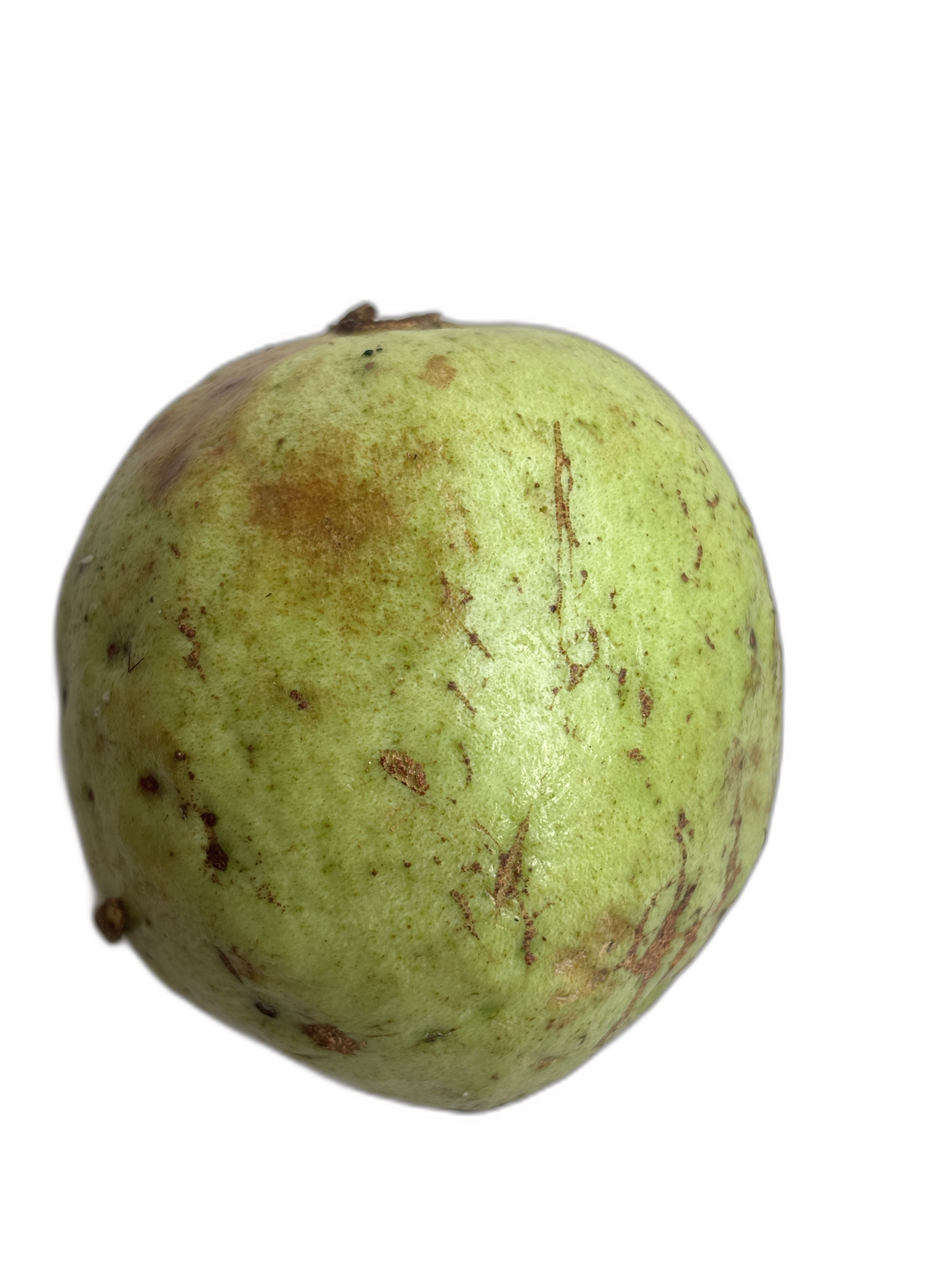guava: (90, 194, 699, 1085)
